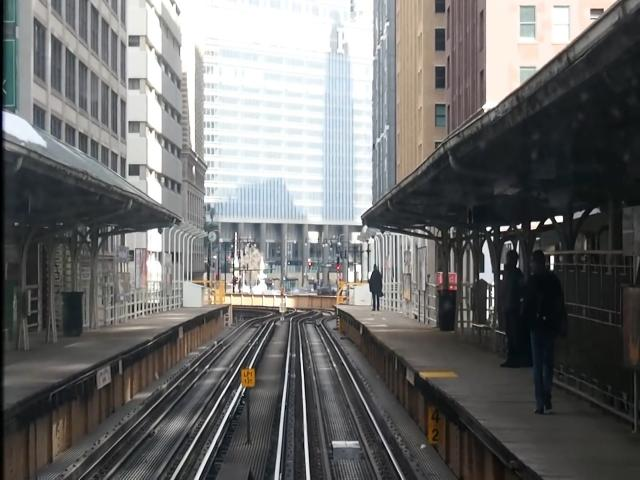signal light: (337, 258, 342, 275)
